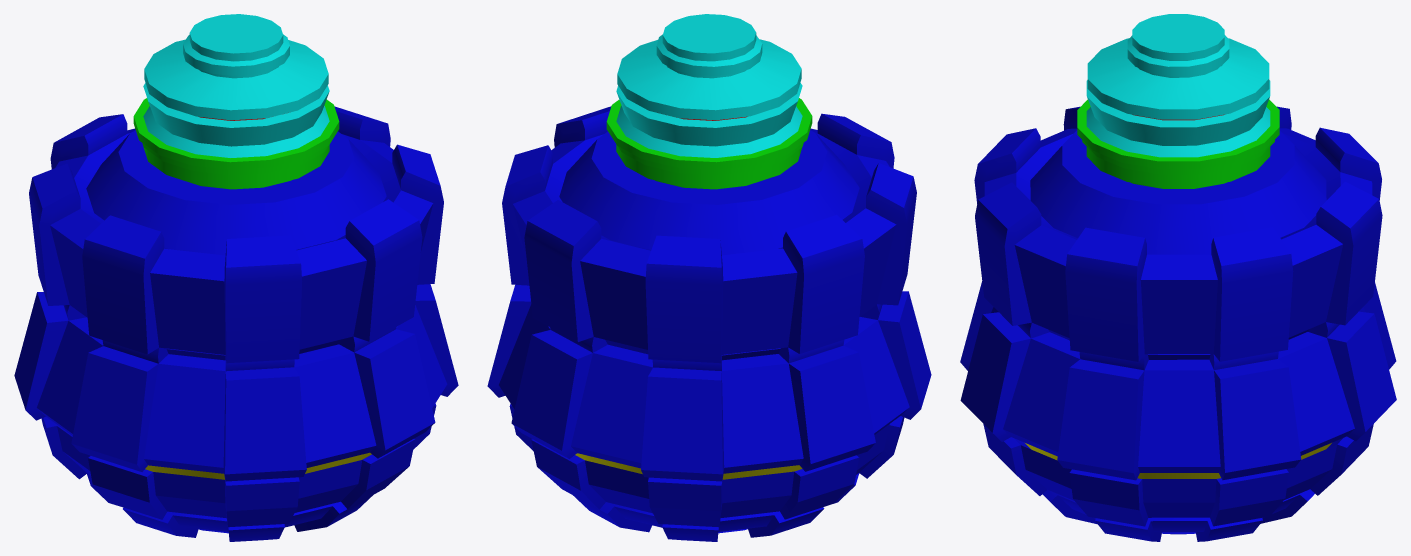
File: STATIC_Grenade_Base.fbx
3 renders of one model, left to right at view 1: azimuth 30°, elevation 25°; view 2: azimuth 150°, elevation 25°; view 3: azimuth 270°, elevation 25°, orthographic.
Visible parts, largest first — view 1: STATIC_Grenade_Base; view 2: STATIC_Grenade_Base; view 3: STATIC_Grenade_Base.
Part boxes in pixels (x1=…): STATIC_Grenade_Base: x1=14, y1=14, x2=458, y2=541; STATIC_Grenade_Base: x1=487, y1=14, x2=931, y2=541; STATIC_Grenade_Base: x1=960, y1=14, x2=1396, y2=541.
Bounding box in the file's own units: 2.05 × 2.5 × 2.05.
